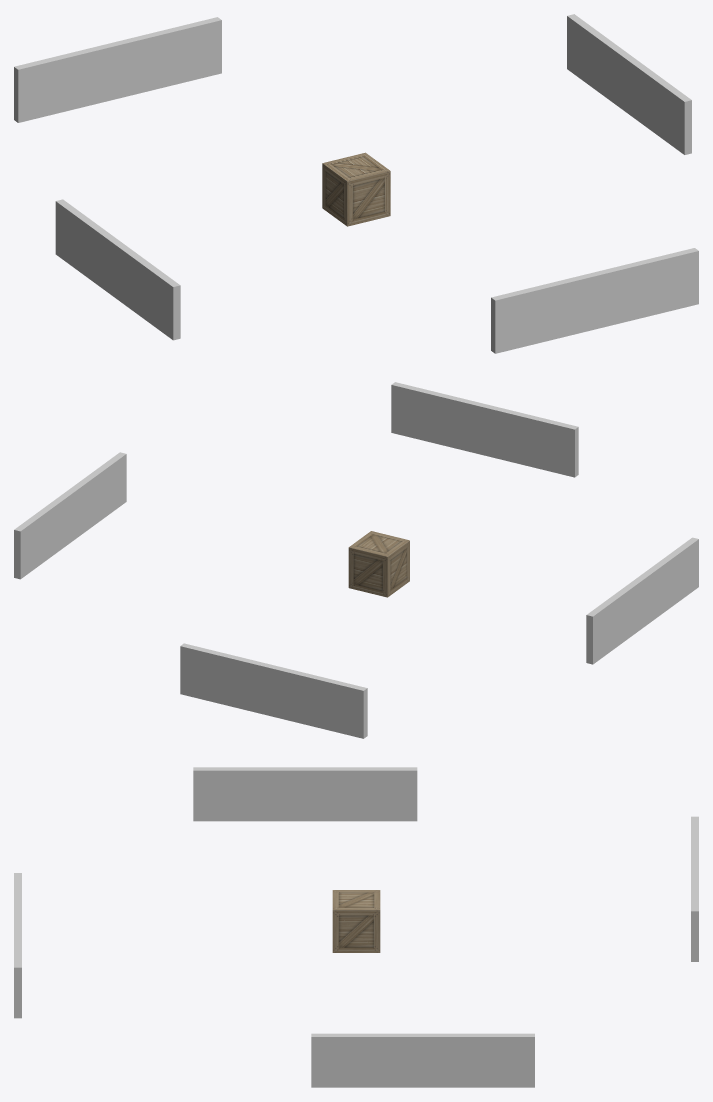
The model's file is TestMap001.fbx.
3 views of the same model, one above another, from view 1: azimuth 30°, elevation 25°; view 2: azimuth 150°, elevation 25°; view 3: azimuth 270°, elevation 25° (orthographic). The views are drawn at different scales.
Visible parts, largest first — view 1: Cube.003, Cube.004, Cube.002, Cube.001, Cube; view 2: Cube.003, Cube.004, Cube.002, Cube.001, Cube; view 3: Cube.002, Cube.001, Cube, Cube.003, Cube.004.
Boxes of the visible parts, bbox=[...] form: Cube.003: bbox=[491, 248, 698, 353]; Cube.004: bbox=[14, 17, 221, 122]; Cube.002: bbox=[55, 199, 180, 340]; Cube.001: bbox=[567, 14, 691, 154]; Cube: bbox=[322, 152, 390, 226]; Cube.003: bbox=[391, 382, 578, 477]; Cube.004: bbox=[180, 643, 367, 738]; Cube.002: bbox=[586, 537, 698, 664]; Cube.001: bbox=[14, 452, 126, 579]; Cube: bbox=[348, 531, 409, 597]; Cube.002: bbox=[193, 767, 417, 821]; Cube.001: bbox=[311, 1033, 534, 1087]; Cube: bbox=[332, 890, 380, 952]; Cube.003: bbox=[14, 873, 21, 1018]; Cube.004: bbox=[691, 816, 698, 961].
Size of what is drawn, in the model's own units: 168 by 14.77 by 180.
